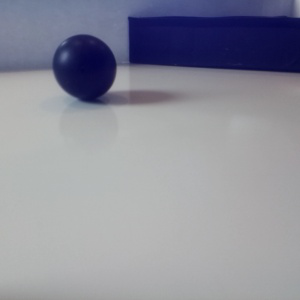zone: (128, 16, 300, 73)
